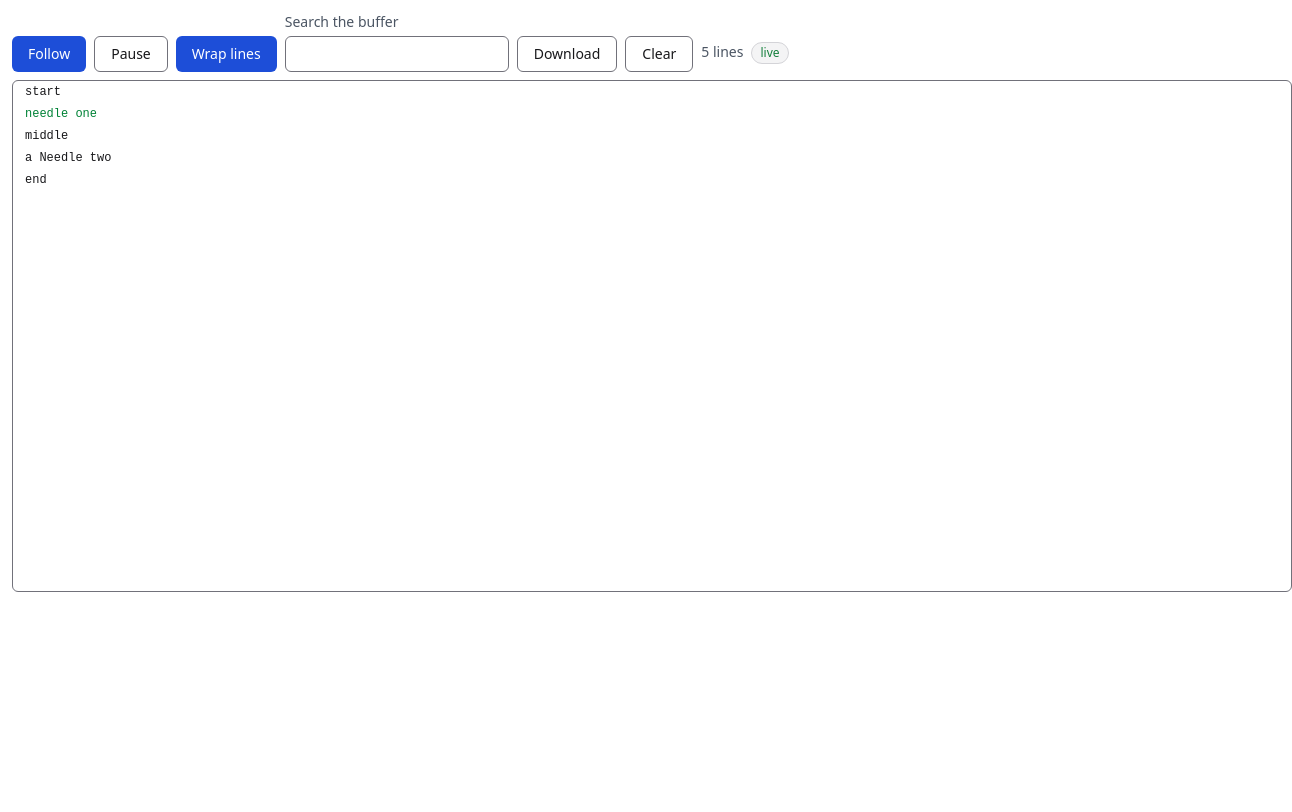
LogViewer › searches the whole buffer, ignoring colour codes, and steps through matches
Type "NEEDLE" into the field labelled "Search the buffer".
click(397, 54); type("NEEDLE")  # box [285, 36, 509, 72]
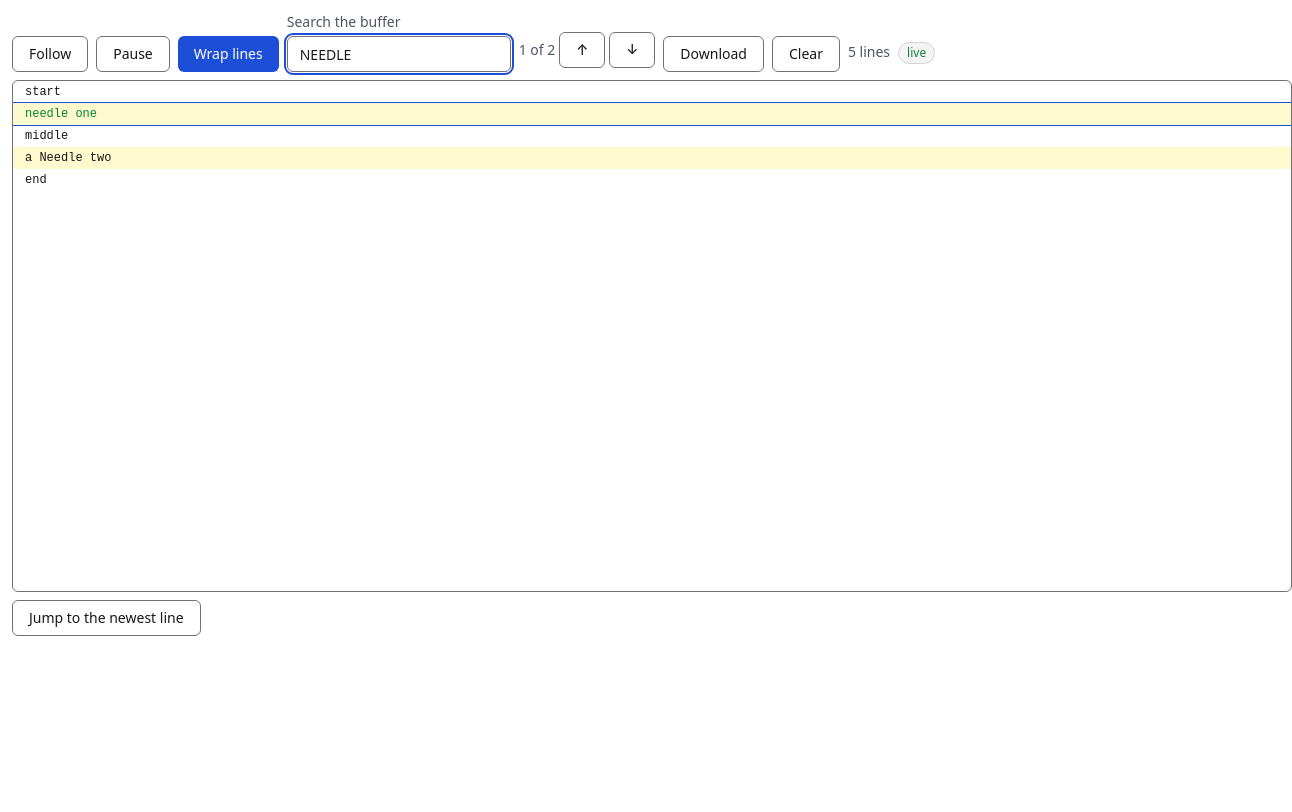
Check: the text "1 of 2" is shown, box [519, 40, 555, 60]
Click the button named "Next match".
click(632, 50)  # box [609, 32, 655, 68]
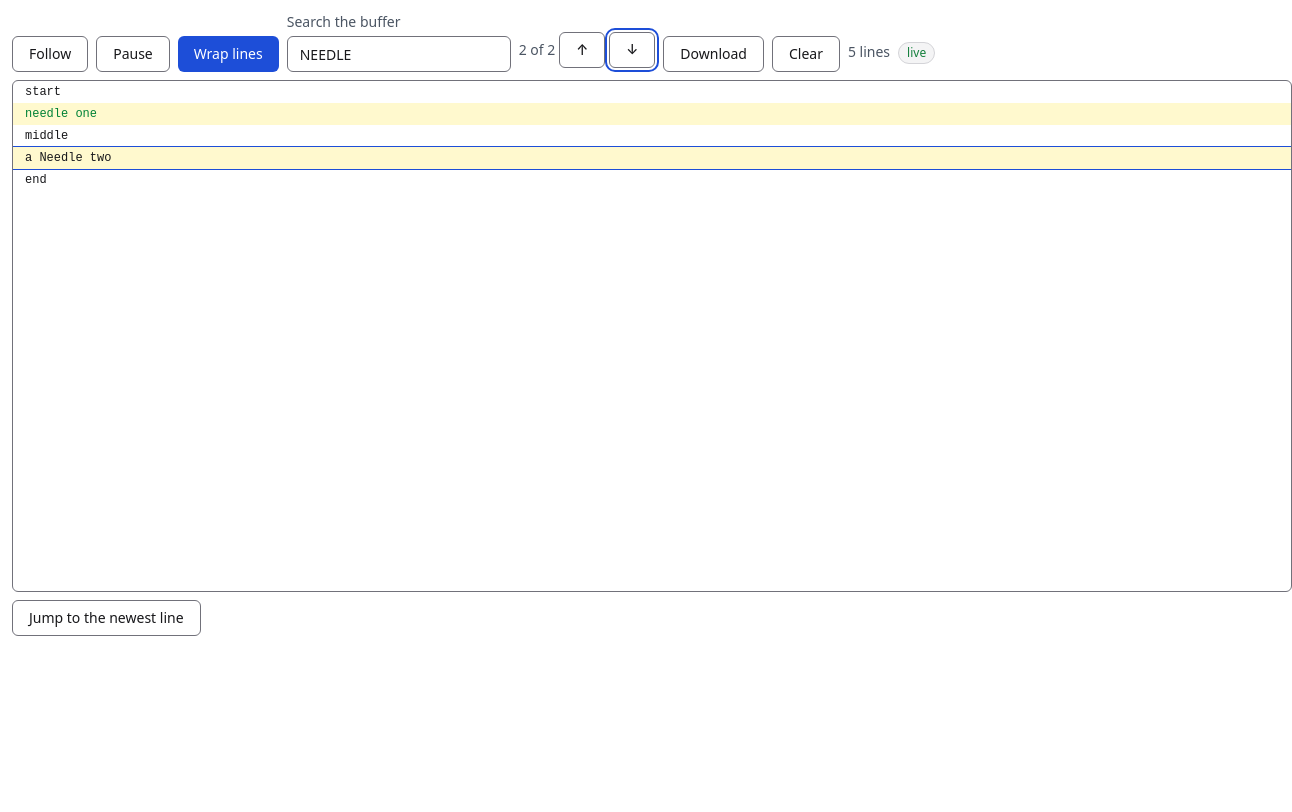
Check: the text "2 of 2" is shown, box [519, 40, 555, 60]
Click the button named "Next match".
click(632, 50)  # box [609, 32, 655, 68]
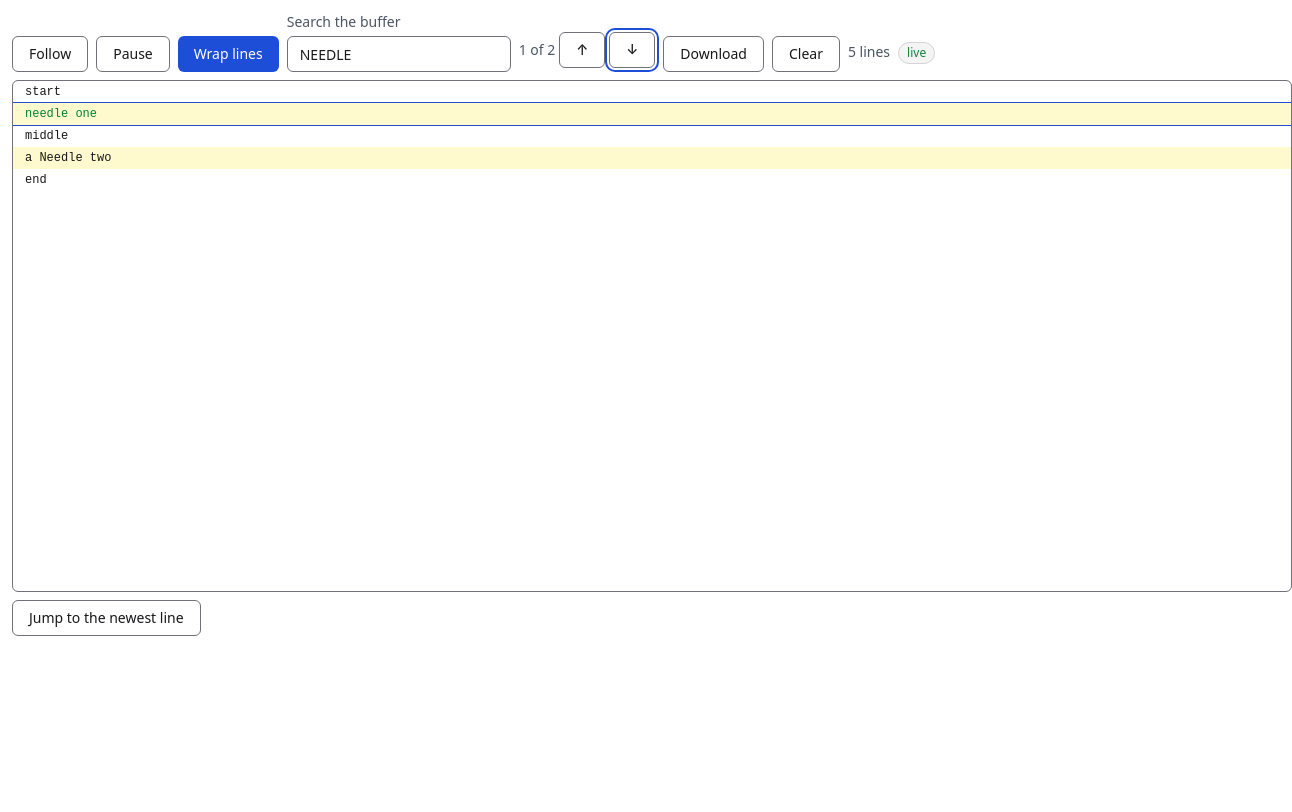
Check: the text "1 of 2" is shown, box [519, 40, 555, 60]
Click the button named "Previous match".
click(582, 50)  # box [559, 32, 605, 68]
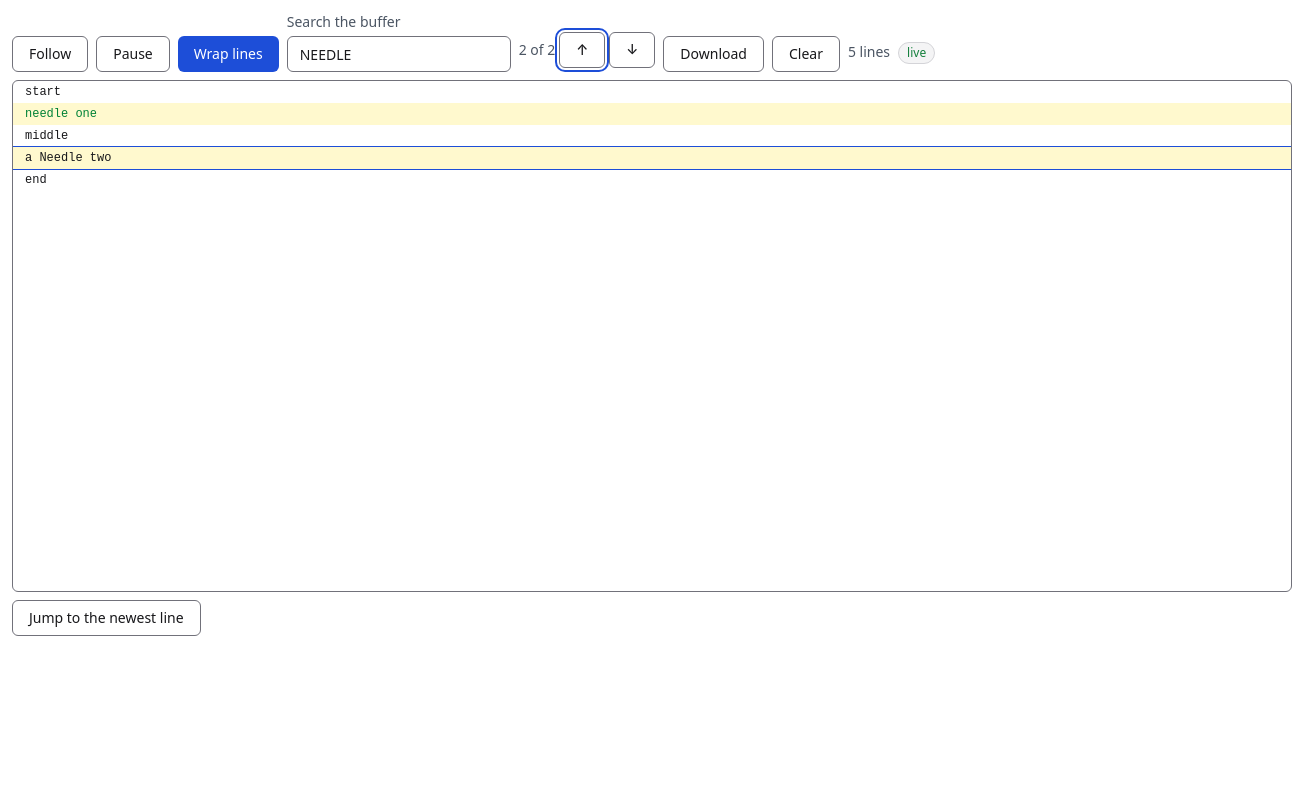
Check: the text "2 of 2" is shown, box [519, 40, 555, 60]
Replace the text in the field labelled "Search the buffer" with "absent" at (399, 54), box [287, 36, 511, 72]
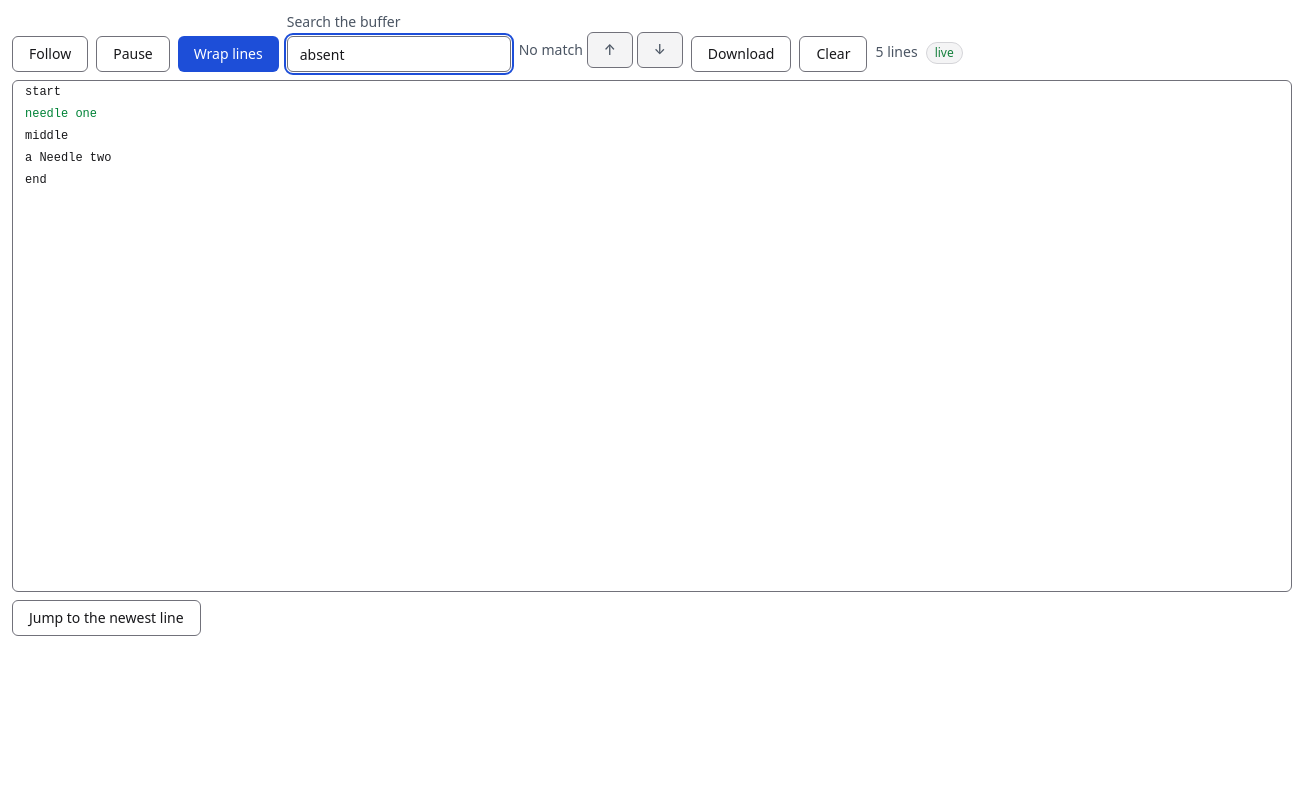
Check: the text "No match" is shown, box [519, 40, 583, 60]
Check: the button named "Next match" is disabled, box [637, 32, 683, 68]
